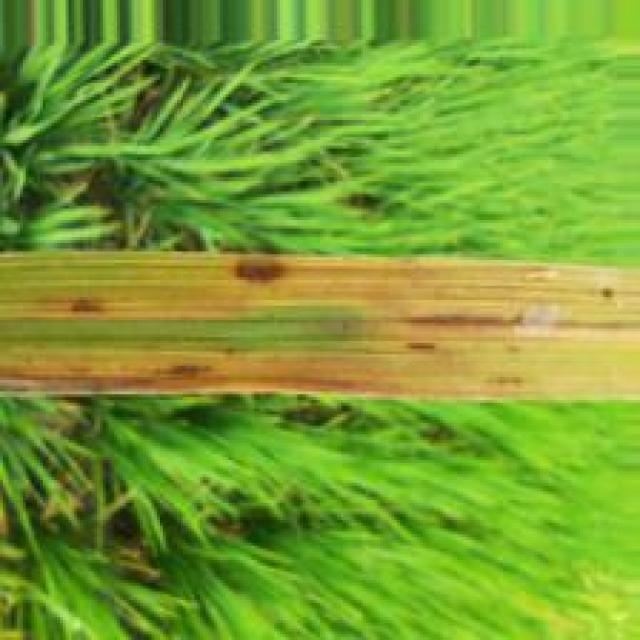Leaf_Blast: (0, 253, 640, 410)
